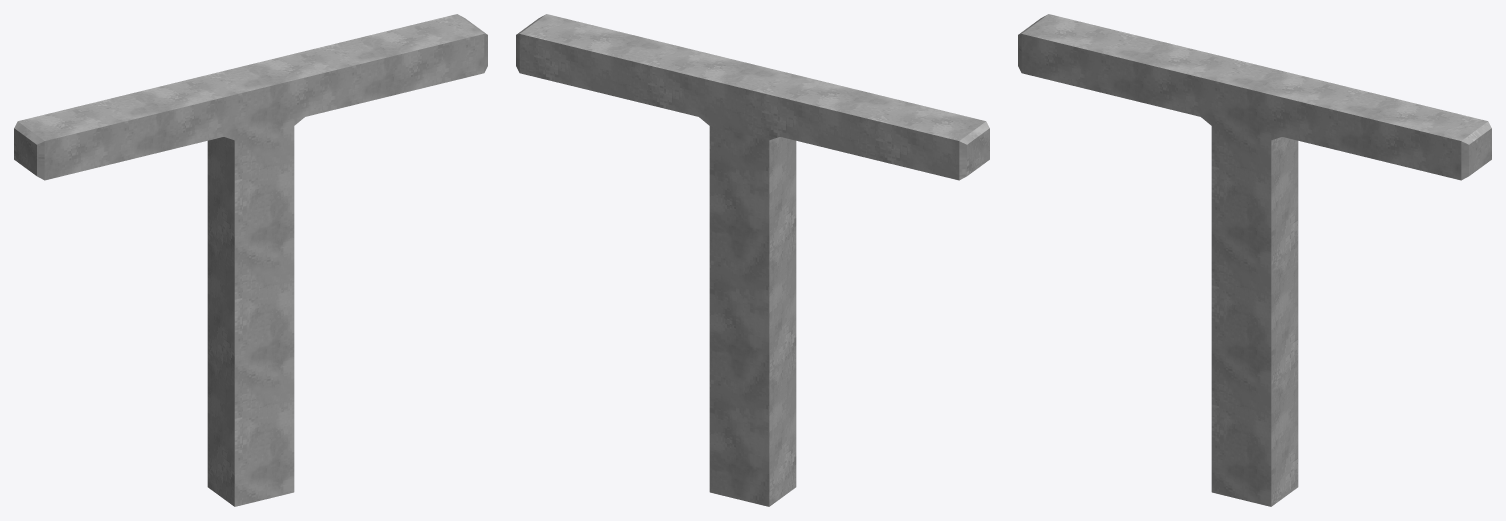
File: Column_Big.fbx
3 renders of one model, left to right at view 1: azimuth 30°, elevation 25°; view 2: azimuth 150°, elevation 25°; view 3: azimuth 330°, elevation 25°, orthographic.
Parts seen in each view (by area): view 1: Column_Big; view 2: Column_Big; view 3: Column_Big.
Boxes of the visible parts, box(x1,y1,x2,y2) form: Column_Big: box(14, 14, 487, 506); Column_Big: box(516, 14, 989, 506); Column_Big: box(1018, 14, 1491, 506).
Size of what is drawn, in the model's own units: 2889 by 2524 by 301.
Materials: 1 (1 with a texture image).
